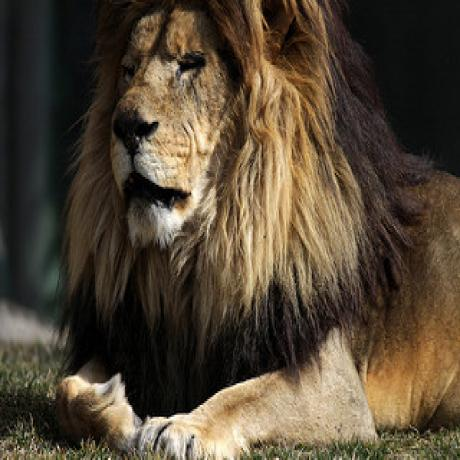Lion: (47, 0, 460, 460)
